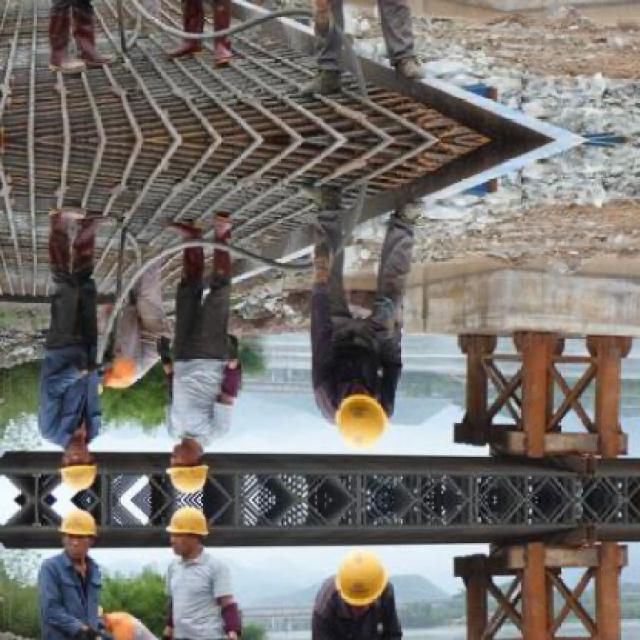con casco: (38, 438, 118, 495), (318, 395, 394, 451), (151, 439, 236, 489)
